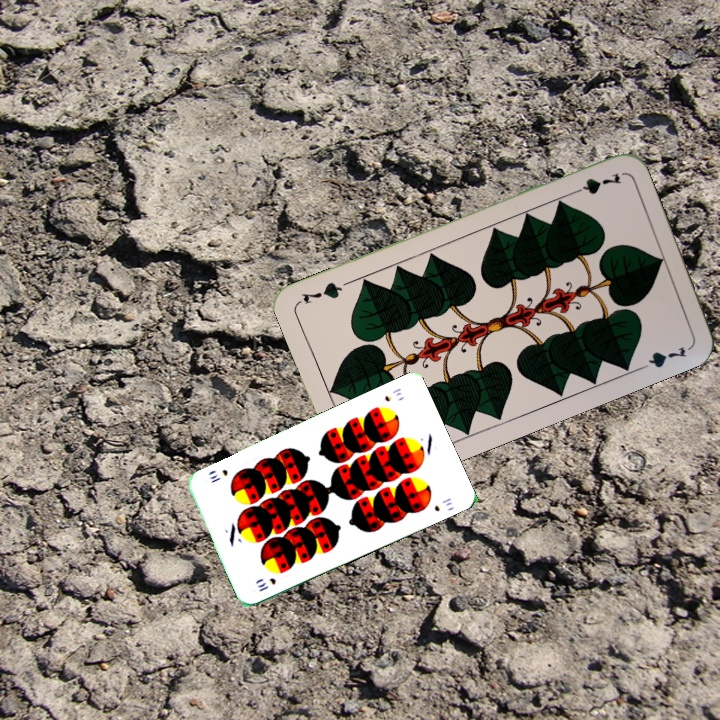G7: (565, 169, 623, 198)
S10: (253, 574, 279, 594), (380, 384, 405, 404)
